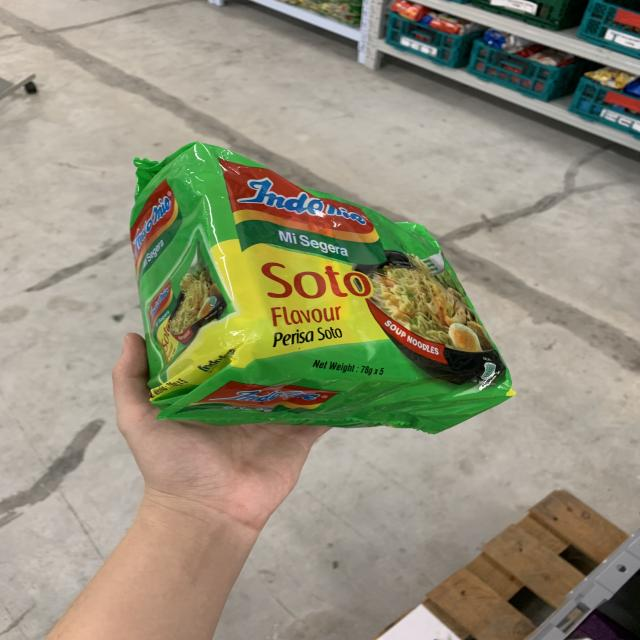object_name: (142, 164, 510, 425)
